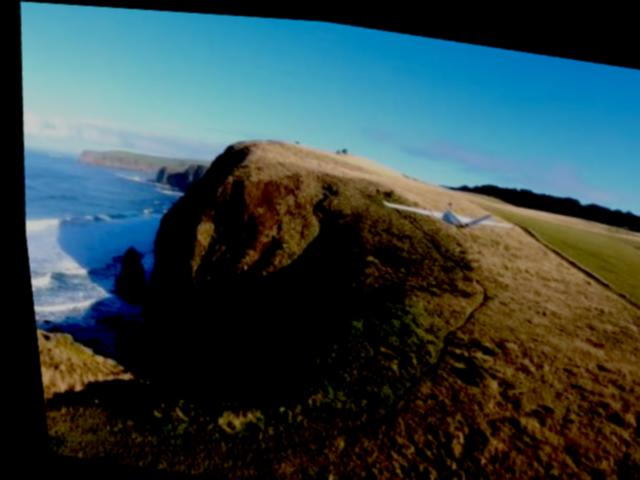uav: (372, 184, 512, 233)
